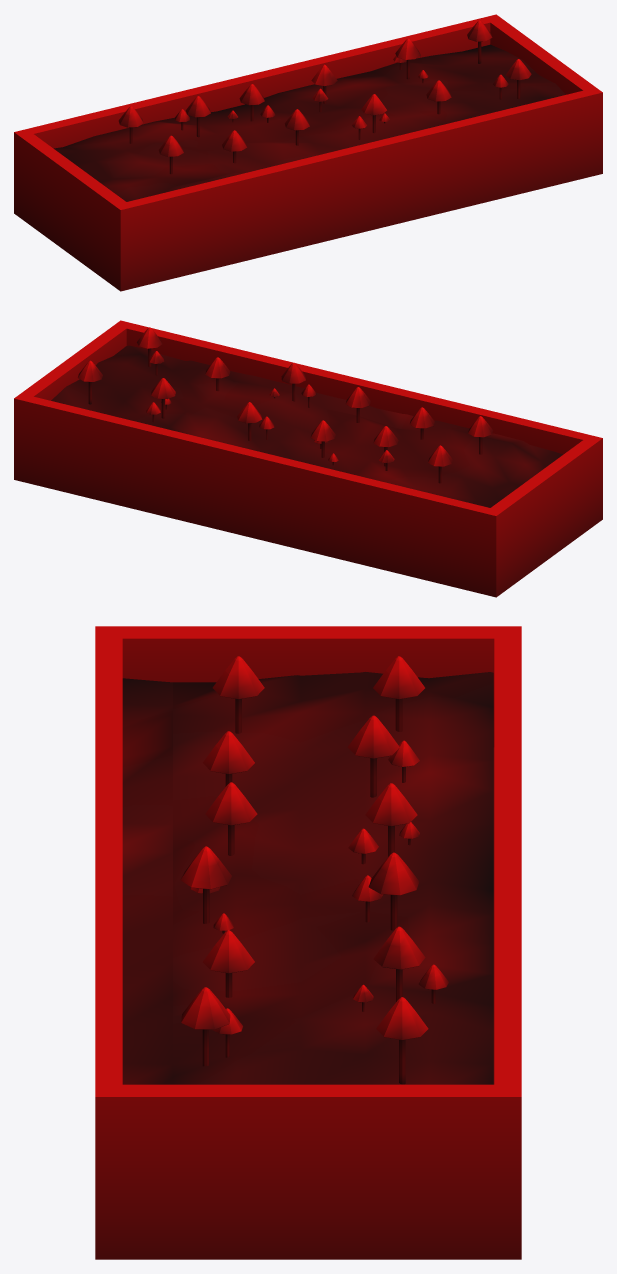
File: ConcreteGardenBed001.glb
3 renders of one model, top to bottom at view 1: azimuth 30°, elevation 25°; view 2: azimuth 150°, elevation 25°; view 3: azimuth 270°, elevation 25°, orthographic. The views are drawn at different scales.
Visible parts, largest first — view 1: ConcreteGardenBed001; view 2: ConcreteGardenBed001; view 3: ConcreteGardenBed001.
Boxes of the visible parts, x1=… form: ConcreteGardenBed001: x1=14, y1=14, x2=602, y2=291; ConcreteGardenBed001: x1=14, y1=320, x2=602, y2=597; ConcreteGardenBed001: x1=95, y1=626, x2=521, y2=1259.
Bounding box in the file's own units: 10.23 × 2.19 × 3.92.
